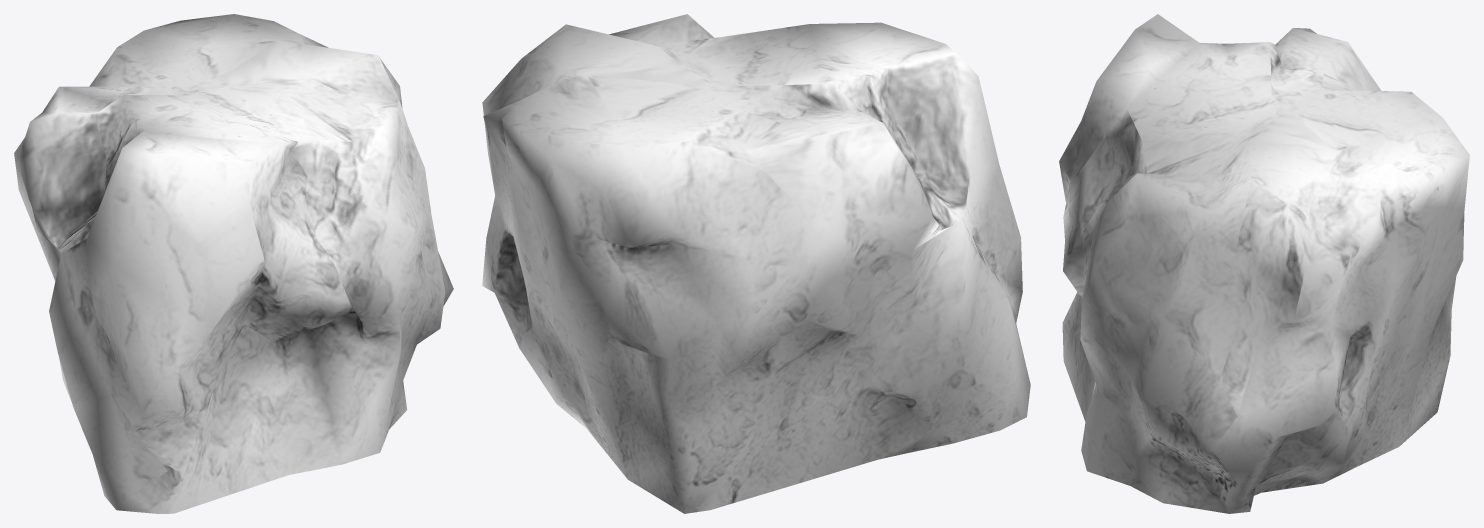
The model's file is Rock001_LOD3.fbx.
3 views of the same model, side by side, from view 1: azimuth 30°, elevation 25°; view 2: azimuth 150°, elevation 25°; view 3: azimuth 270°, elevation 25° (orthographic). The views are drawn at different scales.
Visible parts, largest first — view 1: Rock001; view 2: Rock001; view 3: Rock001.
Part boxes in pixels (left/top/right/bottom): Rock001: left=14, top=14, right=453, bottom=513; Rock001: left=482, top=14, right=1030, bottom=513; Rock001: left=1059, top=14, right=1469, bottom=513.
Bounding box in the file's own units: 4.24 × 3.4 × 3.67.
